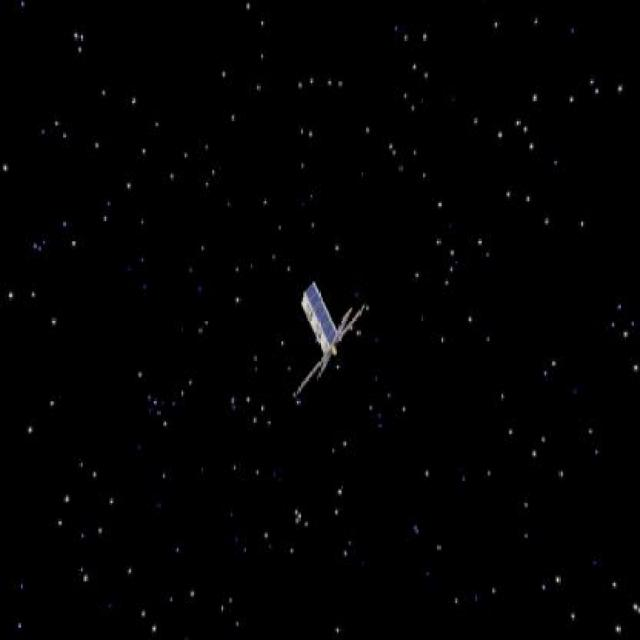medium_debris: (279, 284, 383, 406)
